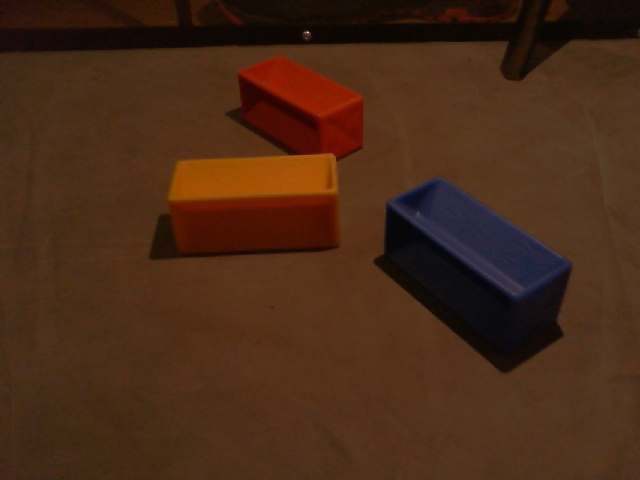BlueSample: (382, 175, 574, 358)
RedSample: (237, 55, 367, 164)
YellowSample: (166, 150, 344, 253)
